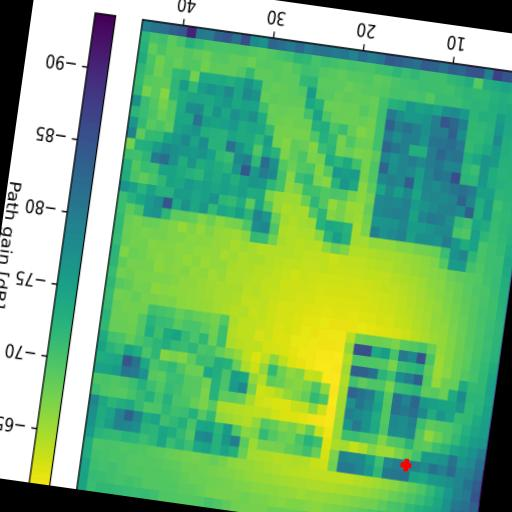Concrete: (128, 304, 228, 454)
Glass: (336, 344, 427, 483)
Metal: (153, 68, 264, 219)
Wood: (368, 98, 470, 249)
